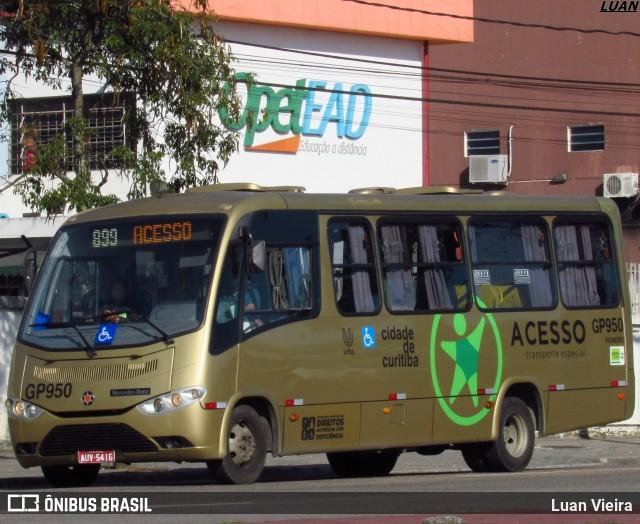ACESSO: (126, 217, 201, 249)
